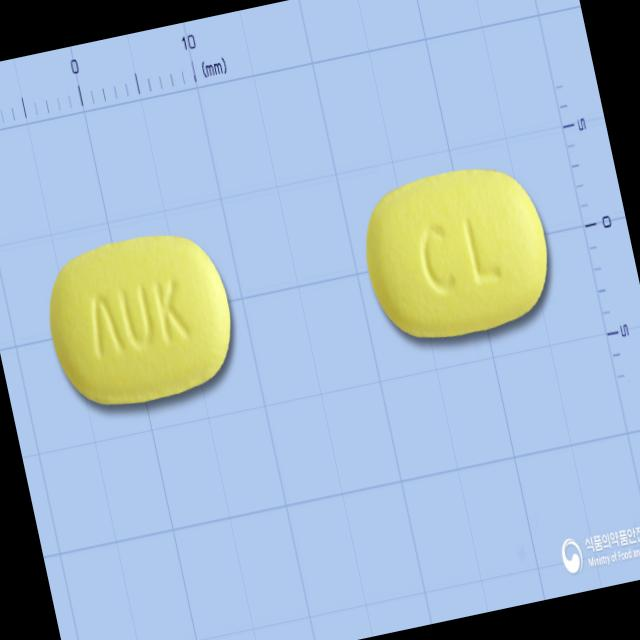Auscle - 500mg: (30, 213, 249, 428)
